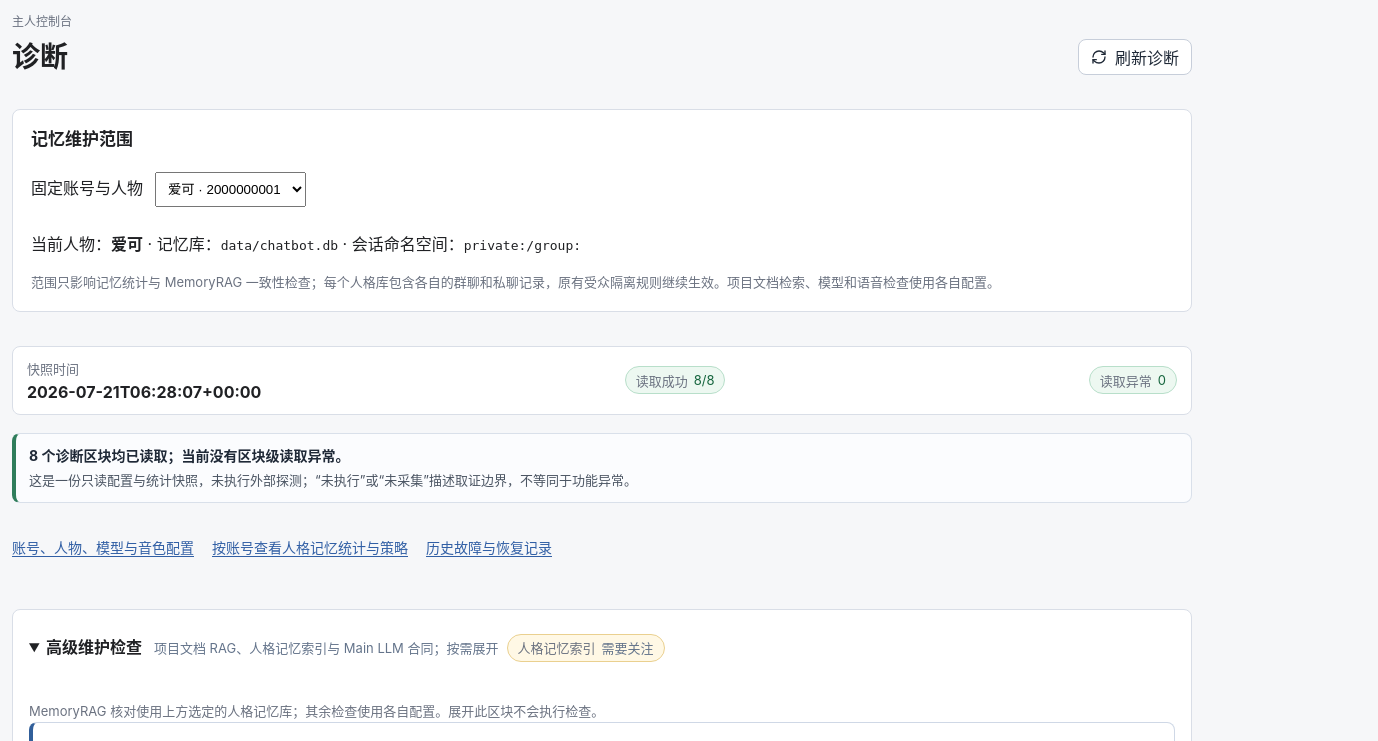
Test: DiagnosticsPage › binds the confirmation and evidence request to the chosen account, hiding other scope results
Select "凛音 · 3000000001" in the dropdown at (230, 189), box [155,172,306,207]
(page scrolled)
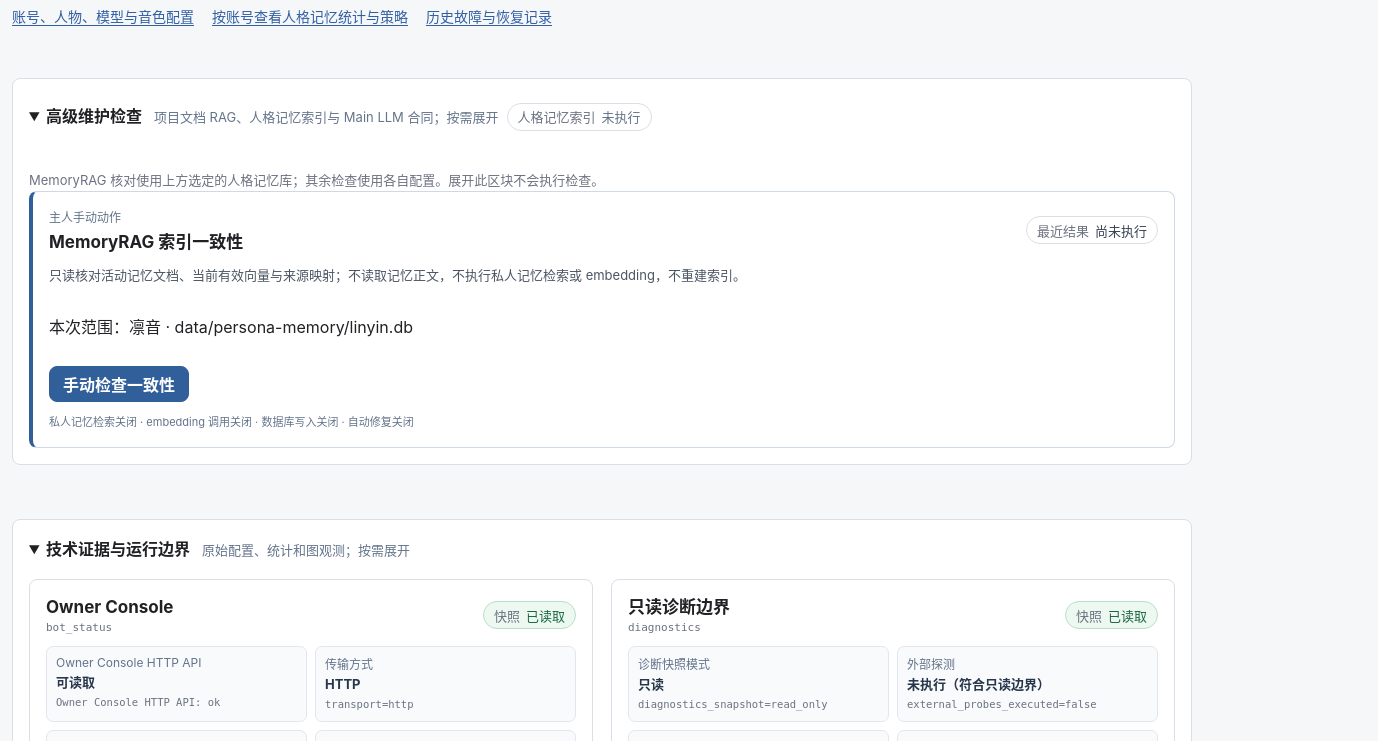
Click the button "手动检查一致性".
click(119, 384)  # box [49,366,189,402]
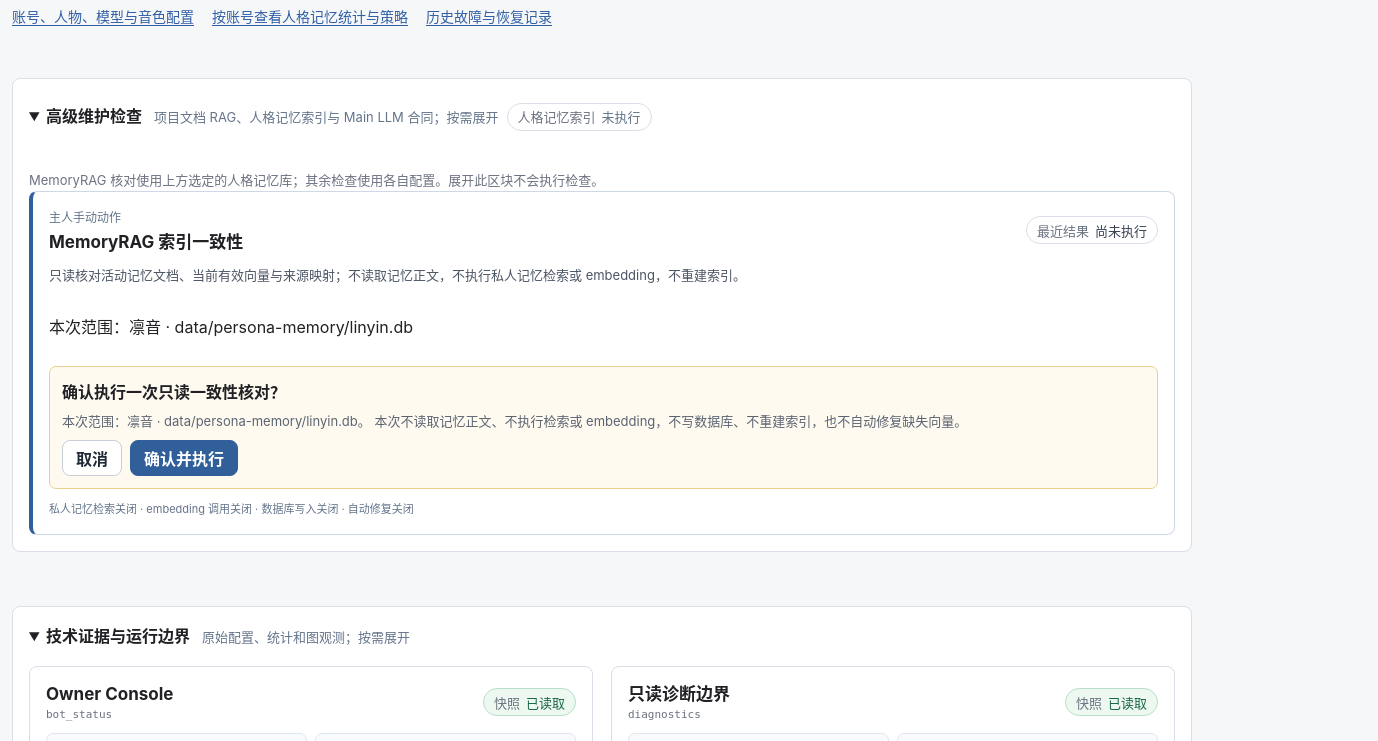
Expected: the element named "确认 MemoryRAG 索引一致性手动检查" shows "凛音 · data/persona-memory/linyin.db", [49,366,1158,489]
Click the button "确认并执行".
click(184, 458)  # box [130,440,238,476]
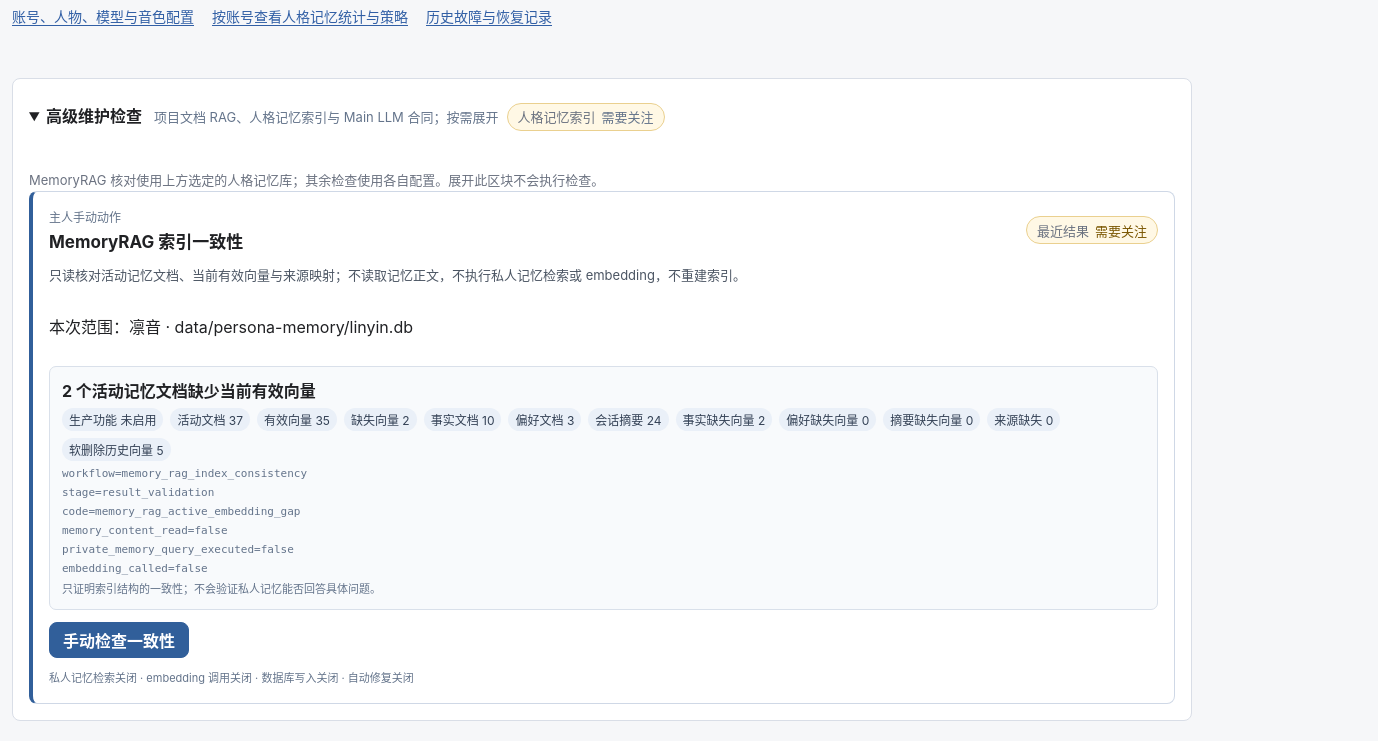
Expected: the text "2 个活动记忆文档缺少当前有效向量" is shown, [62,381,316,401]
